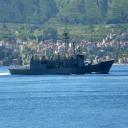Fragata: (9, 22, 117, 77)
